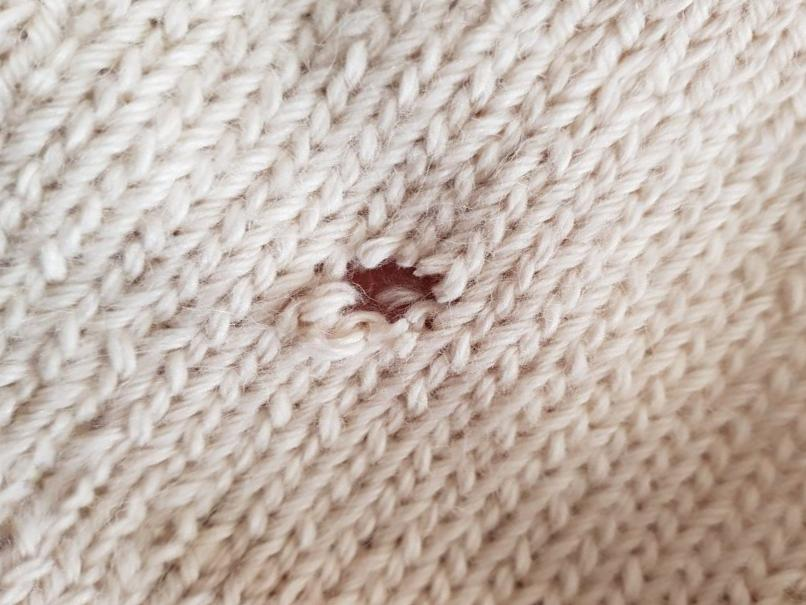hole: (325, 244, 463, 340)
